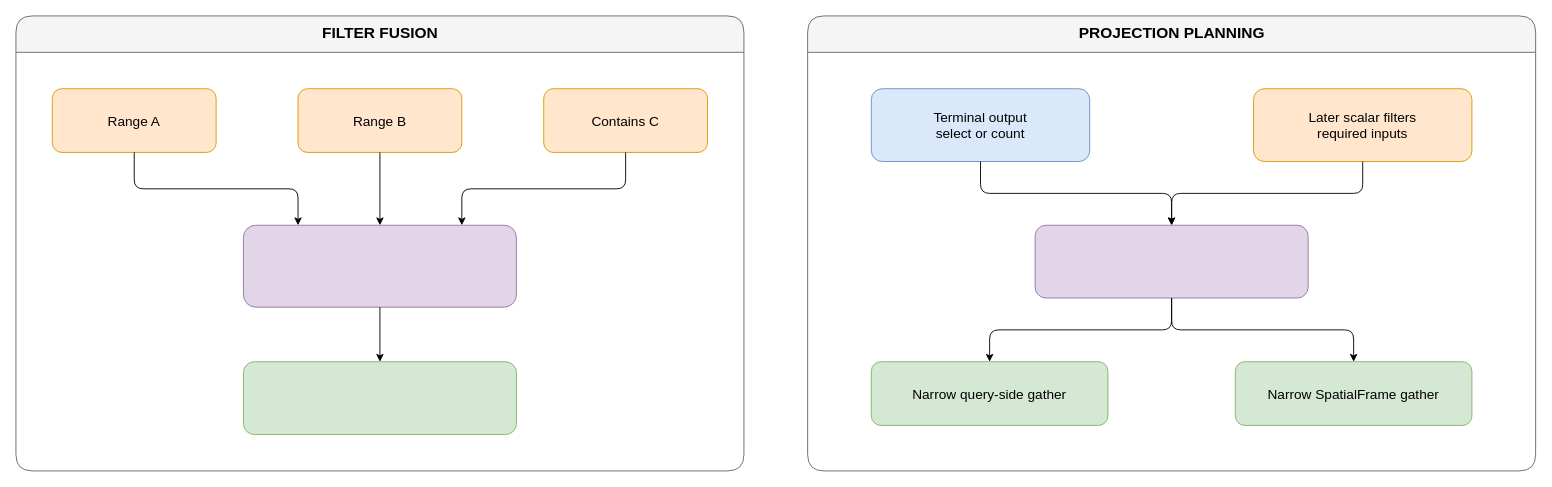
This 1552x487 diagram has some shape labels left out. The shapes that lost their labels are listed below. From the top down, each one's centre as x and y in pixels, then its label:
[379,265]: FusedSpatialNode one Rust boundary crossing
[1171,261]: Required source and join columns
[379,398]: One Boolean mask hit lists intersected in Rust
